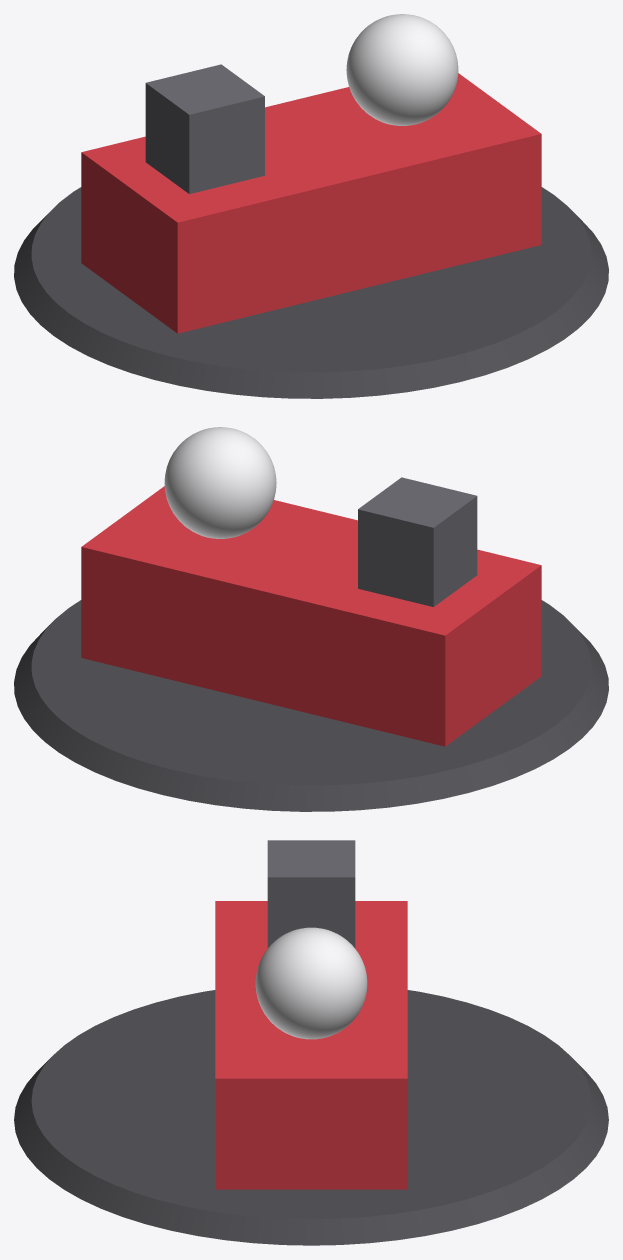
File: objeto-calibracao.glb
The picture shows the model from 3 angles, top to bottom: view 1: azimuth 30°, elevation 25°; view 2: azimuth 150°, elevation 25°; view 3: azimuth 270°, elevation 25°; orthographic projection.
Visible parts, largest first — view 1: parte-1, parte-0, parte-3, parte-2; view 2: parte-1, parte-0, parte-3, parte-2; view 3: parte-0, parte-1, parte-2, parte-3.
Boxes of the visible parts, box(x1,y1,x2,y2) form: parte-1: box(81, 73, 541, 333); parte-0: box(14, 187, 608, 398); parte-3: box(145, 64, 264, 193); parte-2: box(346, 14, 458, 125); parte-1: box(81, 486, 541, 746); parte-0: box(14, 600, 608, 811); parte-3: box(358, 477, 477, 606); parte-2: box(164, 427, 276, 538); parte-0: box(14, 990, 608, 1245); parte-1: box(215, 901, 407, 1189); parte-2: box(255, 927, 367, 1039); parte-3: box(267, 840, 355, 948).
Bounding box in the file's own units: 3.4 × 1.46 × 3.4.
